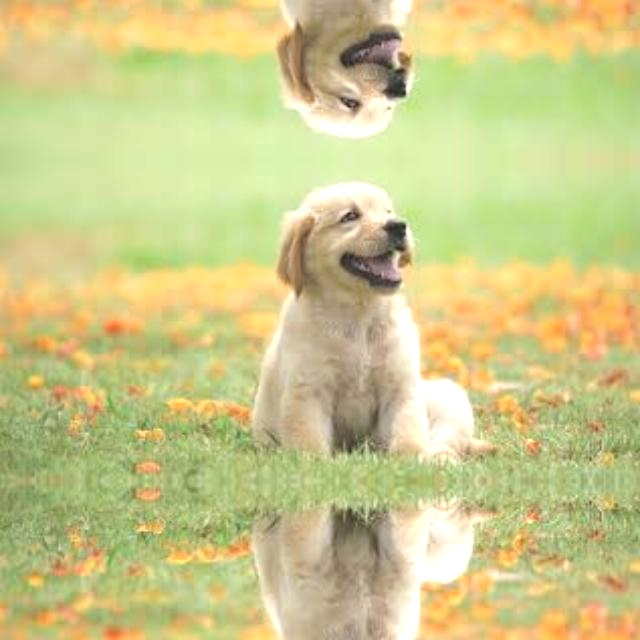dog: (269, 171, 427, 331), (269, 0, 427, 147), (269, 629, 427, 640)
